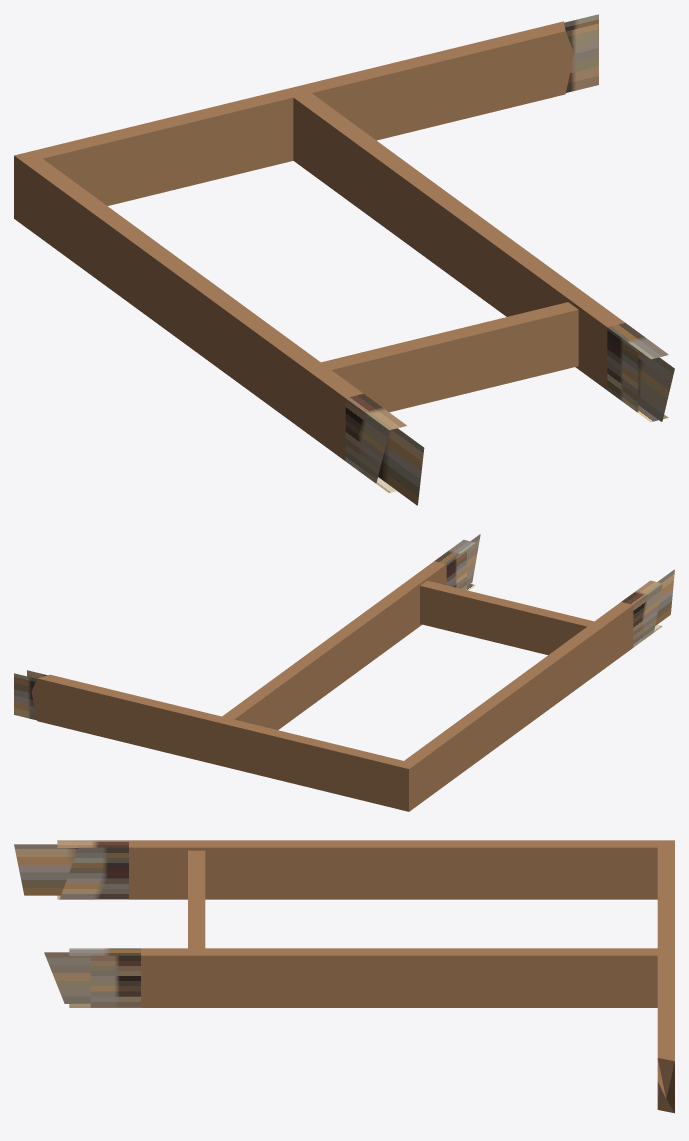
File: DBK_WoodFrame_Floor_End_B.fbx
3 views of the same model, one above another, from view 1: azimuth 30°, elevation 25°; view 2: azimuth 150°, elevation 25°; view 3: azimuth 270°, elevation 25° (orthographic). The views are drawn at different scales.
Visible parts, largest first — view 1: DBK_WoodFrame_Floor_End_B; view 2: DBK_WoodFrame_Floor_End_B; view 3: DBK_WoodFrame_Floor_End_B.
Part boxes in pixels (x1,y1,x2,y2): DBK_WoodFrame_Floor_End_B: [14, 14, 674, 505]; DBK_WoodFrame_Floor_End_B: [14, 534, 674, 811]; DBK_WoodFrame_Floor_End_B: [14, 840, 674, 1113].
Bounding box in the file's own units: 160 × 16.58 × 191.
